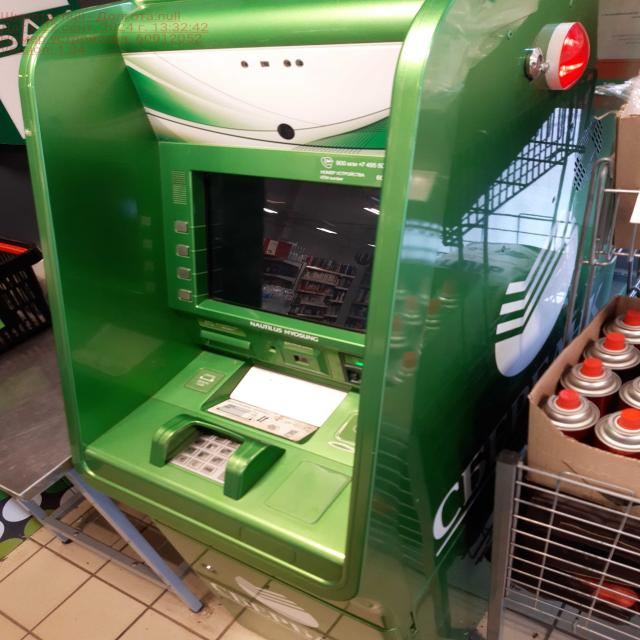bank: (17, 0, 600, 640)
